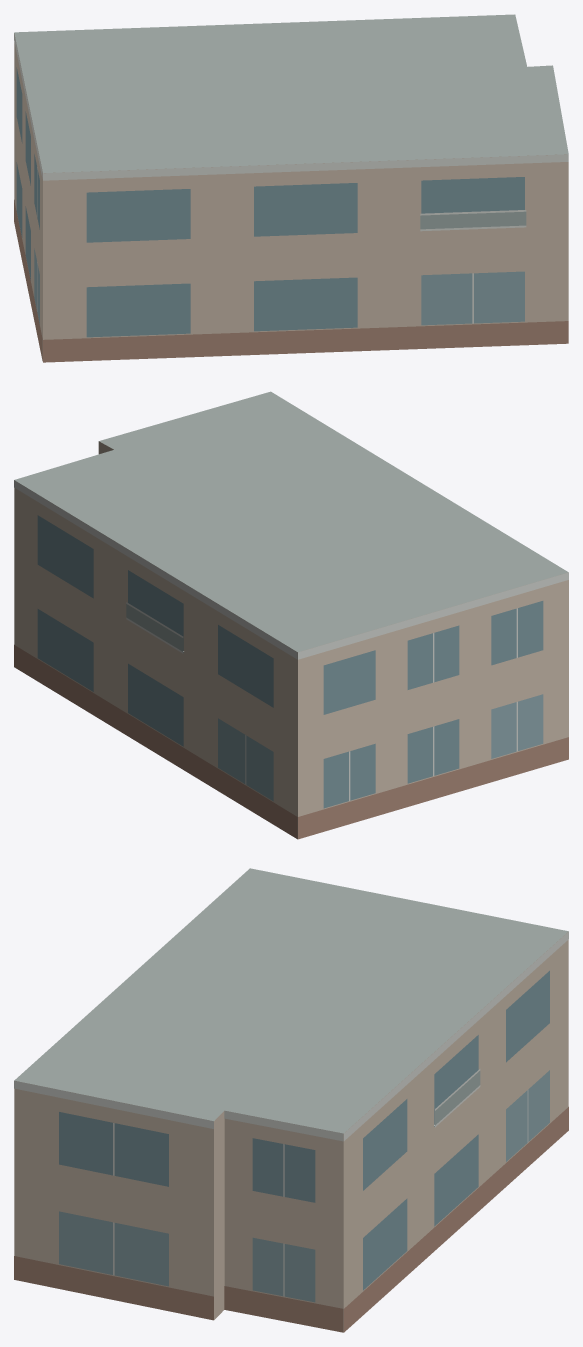
Rendered from survey-upis-32987197.glb.
3 views of the same model, one above another, from view 1: azimuth 30°, elevation 25°; view 2: azimuth 150°, elevation 25°; view 3: azimuth 270°, elevation 25° (orthographic). The views are drawn at different scales.
Parts seen in each view (by area): view 1: survey-upis-32987197.tmp; view 2: survey-upis-32987197.tmp; view 3: survey-upis-32987197.tmp.
Part boxes in pixels (left/top/right/bottom): survey-upis-32987197.tmp: left=14, top=14, right=568, bottom=362; survey-upis-32987197.tmp: left=14, top=391, right=568, bottom=839; survey-upis-32987197.tmp: left=14, top=868, right=568, bottom=1332.
Bounding box in the file's own units: 17.44 × 6.1 × 15.41.
